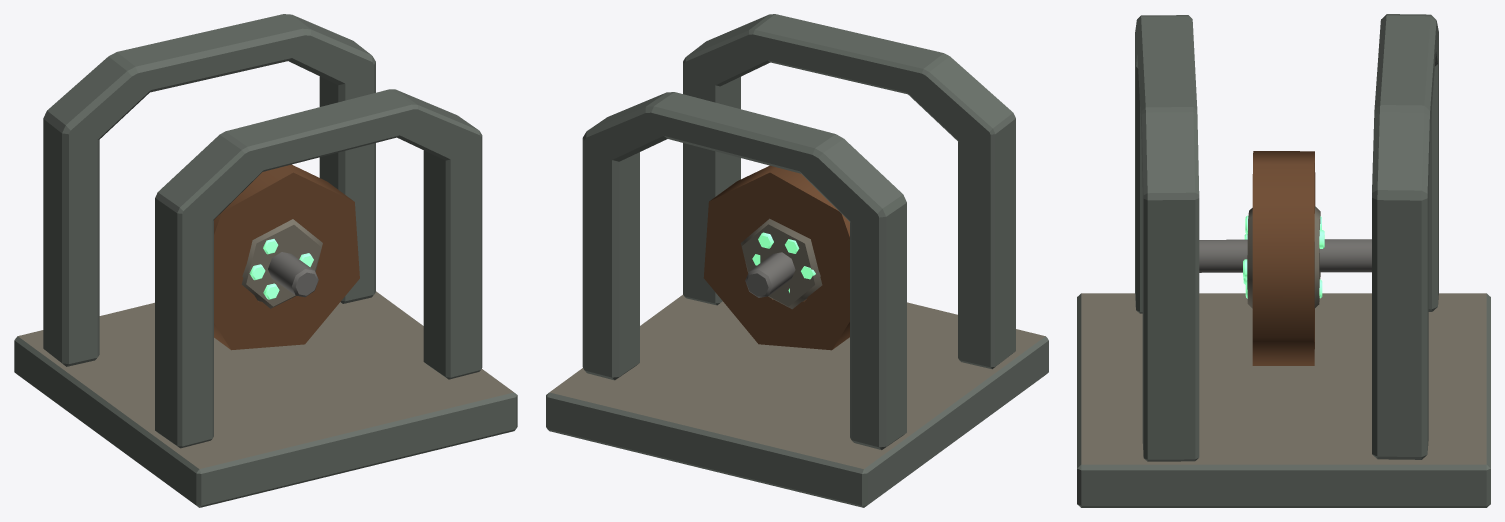
The model's file is R4X_MovementDurabilityBooster_LOD1.fbx.
The picture shows the model from 3 angles, left to right: view 1: azimuth 30°, elevation 25°; view 2: azimuth 150°, elevation 25°; view 3: azimuth 270°, elevation 25°; orthographic projection. The views are drawn at different scales.
Visible parts, largest first — view 1: R4X_MovementDurabilityBooster_LOD1; view 2: R4X_MovementDurabilityBooster_LOD1; view 3: R4X_MovementDurabilityBooster_LOD1.
Boxes of the visible parts, <box> form: R4X_MovementDurabilityBooster_LOD1: <box>14,14,517,507</box>; R4X_MovementDurabilityBooster_LOD1: <box>546,14,1048,507</box>; R4X_MovementDurabilityBooster_LOD1: <box>1077,14,1490,507</box>.
Bounding box in the file's own units: 0.52 × 0.5 × 0.52.
